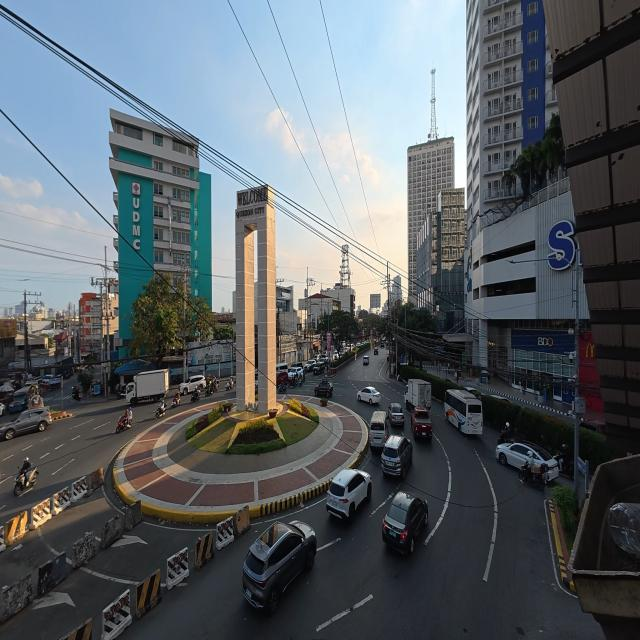bus: (445, 390, 482, 435)
car: (243, 521, 316, 615), (383, 492, 428, 553), (496, 442, 558, 481), (326, 469, 371, 520), (0, 408, 52, 440), (381, 435, 412, 478), (411, 408, 432, 441), (180, 375, 206, 394), (386, 403, 404, 427), (358, 387, 380, 404), (315, 379, 333, 397), (41, 375, 61, 387), (289, 367, 304, 381), (313, 359, 326, 375), (490, 394, 511, 403), (277, 370, 288, 385), (304, 359, 316, 371), (464, 387, 479, 394), (292, 362, 304, 368), (0, 403, 5, 416), (333, 351, 339, 360), (363, 356, 369, 365), (374, 348, 378, 355), (380, 341, 384, 347), (386, 353, 389, 361), (356, 343, 360, 347)
motorcycle: (520, 464, 548, 491), (554, 445, 574, 478), (14, 468, 38, 495), (498, 422, 515, 444), (116, 415, 130, 433), (155, 401, 165, 419), (72, 389, 82, 401), (191, 389, 199, 403), (171, 396, 180, 408), (277, 383, 286, 394), (205, 382, 212, 396), (289, 377, 297, 387), (213, 379, 219, 392), (226, 379, 233, 390)
trucks: (405, 379, 432, 440), (126, 370, 168, 403), (405, 379, 431, 411)
vans: (370, 411, 388, 450), (276, 363, 288, 374)
